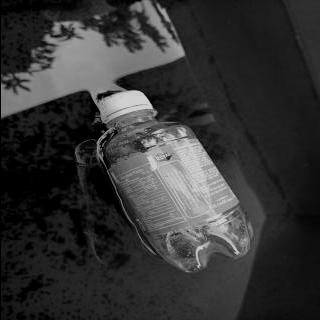bottle: (90, 88, 256, 276)
